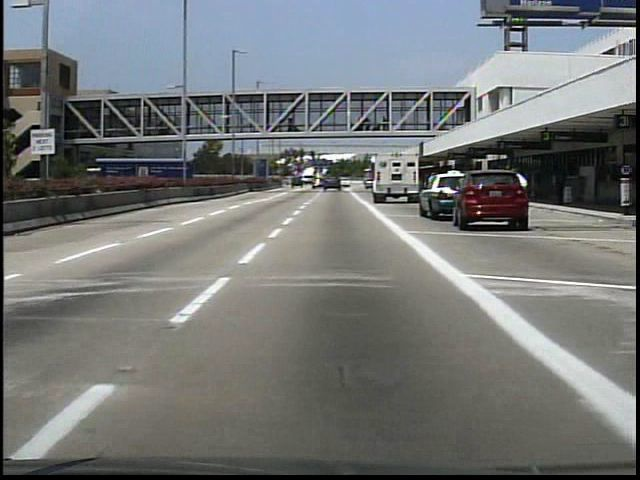person: (513, 173, 533, 226)
